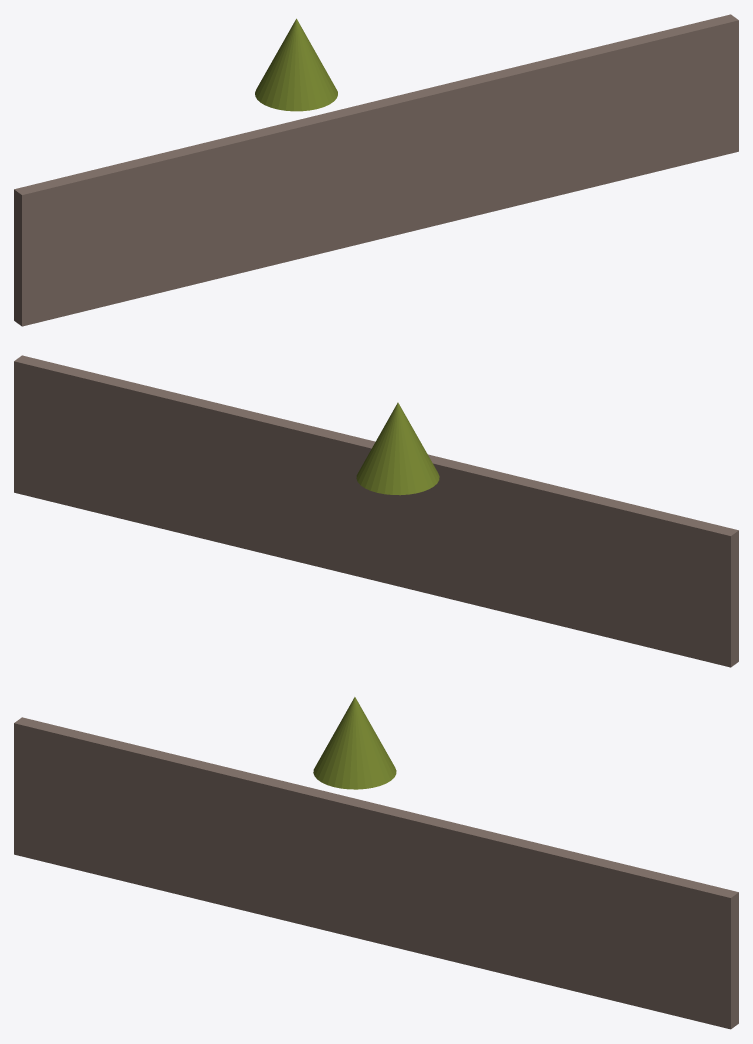
Rendered from mainModel.glb.
3 views of the same model, one above another, from view 1: azimuth 30°, elevation 25°; view 2: azimuth 150°, elevation 25°; view 3: azimuth 330°, elevation 25° (orthographic).
Visible parts, largest first — view 1: 立方体, 锥体; view 2: 立方体, 锥体; view 3: 立方体, 锥体.
Boxes of the visible parts, x1,y1,x2,y2 form: 立方体: (14,14,738,326); 锥体: (255,18,337,111); 立方体: (14,355,738,667); 锥体: (356,402,439,495); 立方体: (14,717,738,1029); 锥体: (313,697,396,789).
Bounding box in the file's own units: 11.42 × 3.18 × 1.49.
